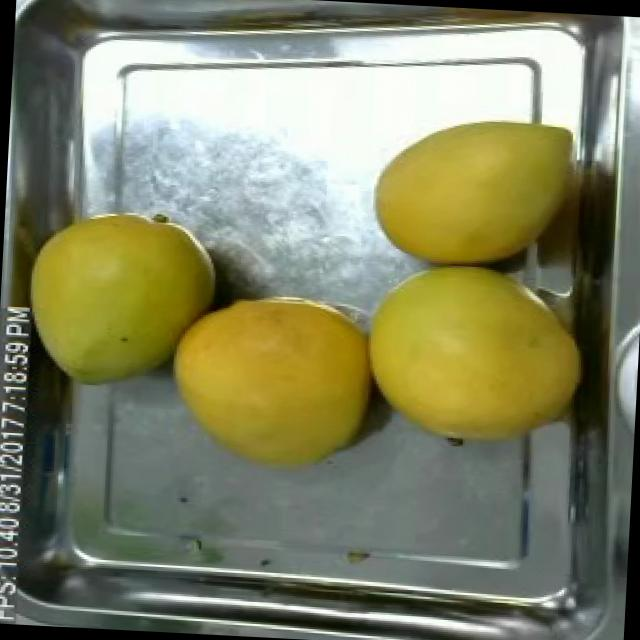fruit: (356, 248, 602, 458), (158, 280, 386, 487), (13, 200, 229, 401), (365, 102, 594, 282)
